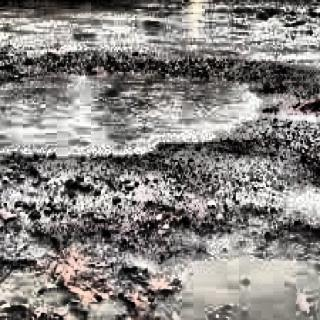pothole: (0, 29, 310, 161), (36, 180, 313, 320)
